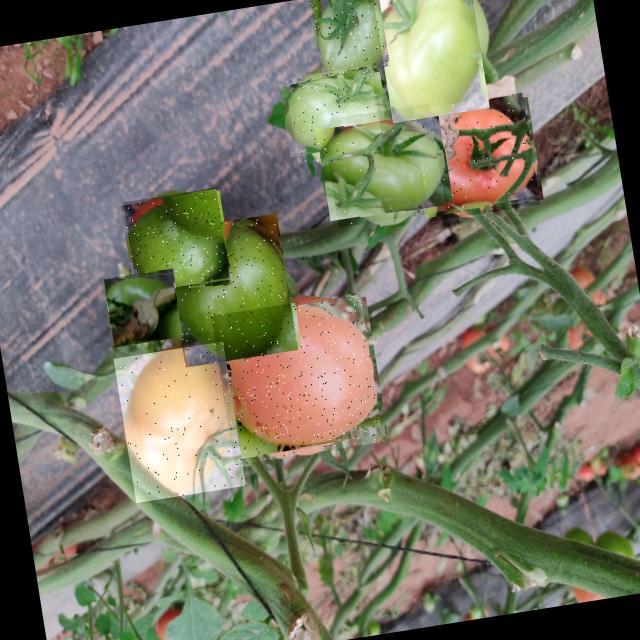Ripe Tomato: (211, 292, 384, 466), (114, 340, 245, 502), (412, 92, 540, 222)
Unripe Tomato: (164, 214, 298, 368), (322, 103, 446, 228), (372, 0, 490, 123), (123, 188, 231, 296), (284, 64, 384, 164), (104, 268, 183, 348), (309, 0, 390, 78)
